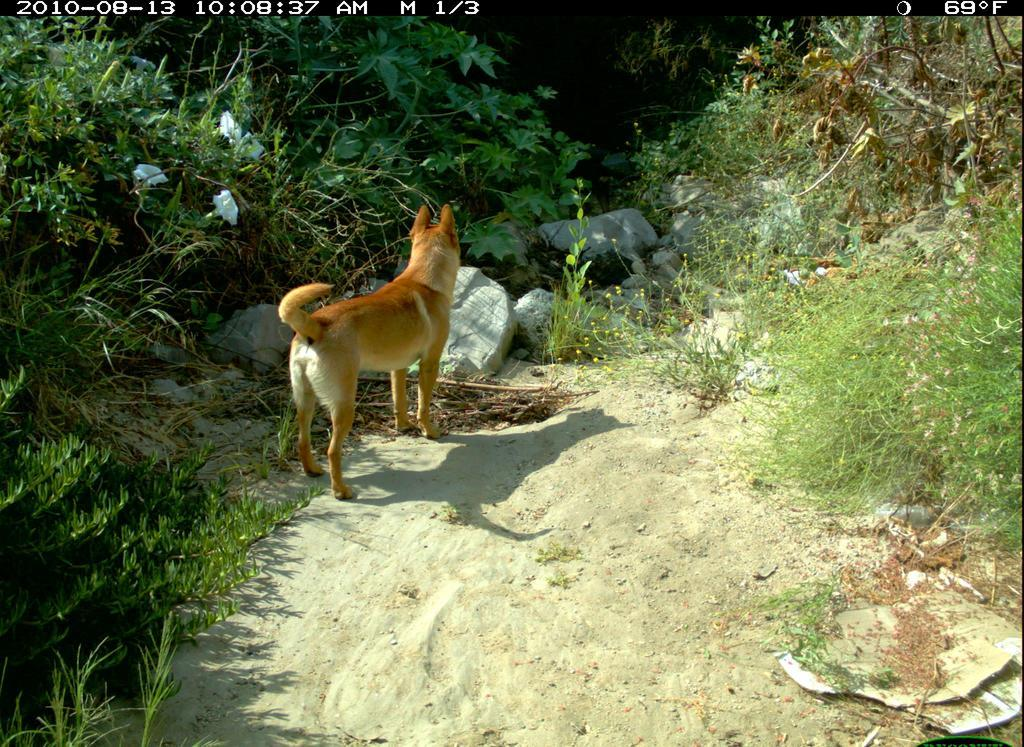dog: (268, 196, 479, 506)
